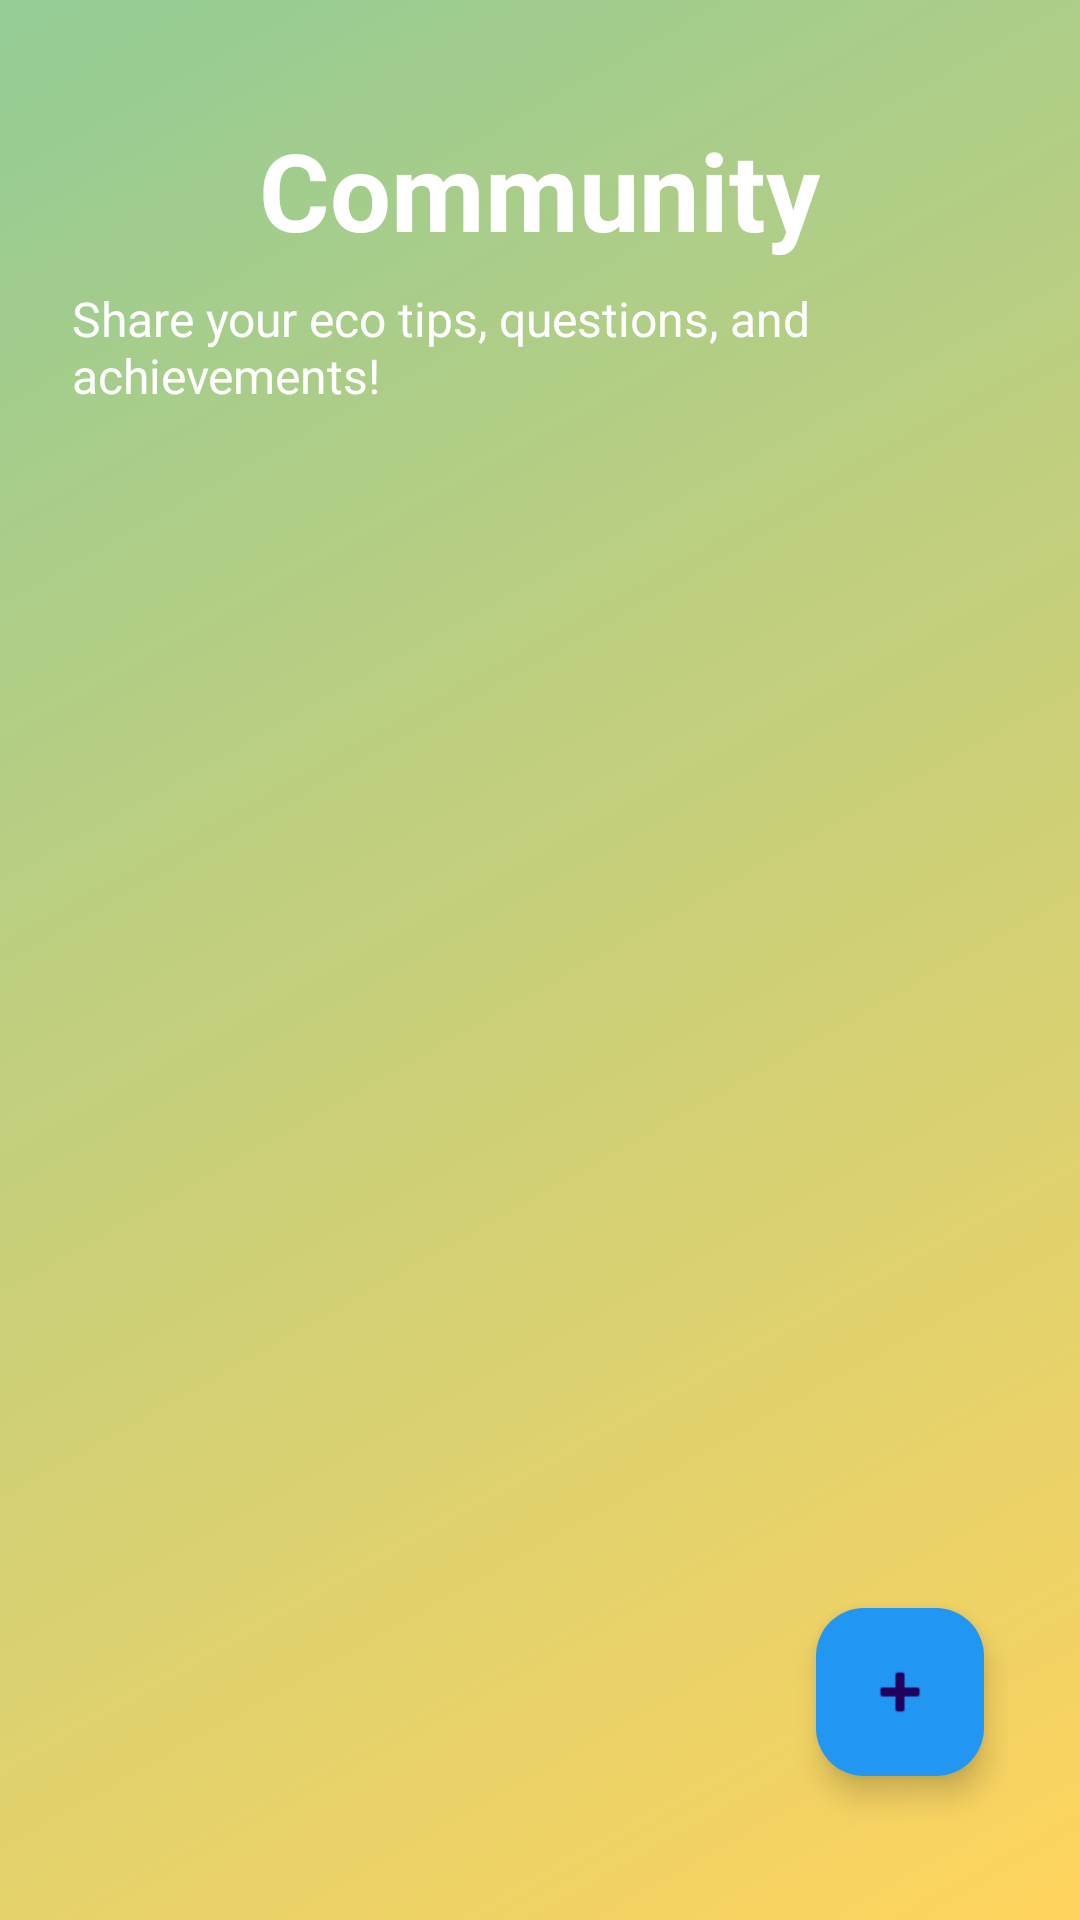

Point at icon controls on the screen. Image size 1080px×1920px, points as (x,y).
Add Post: (900,1692)
